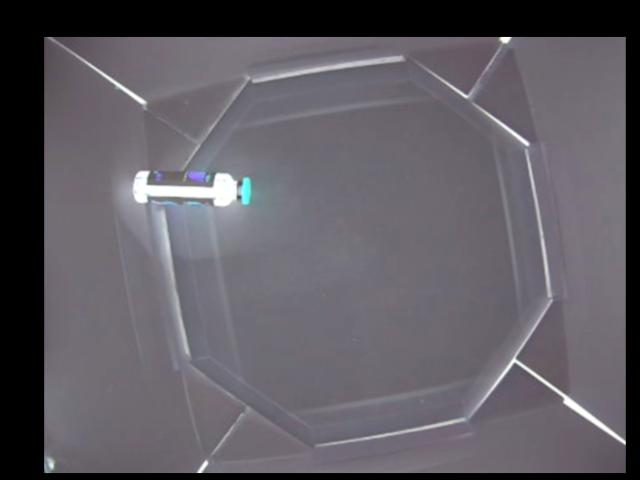Medicine: (131, 169, 251, 206)
